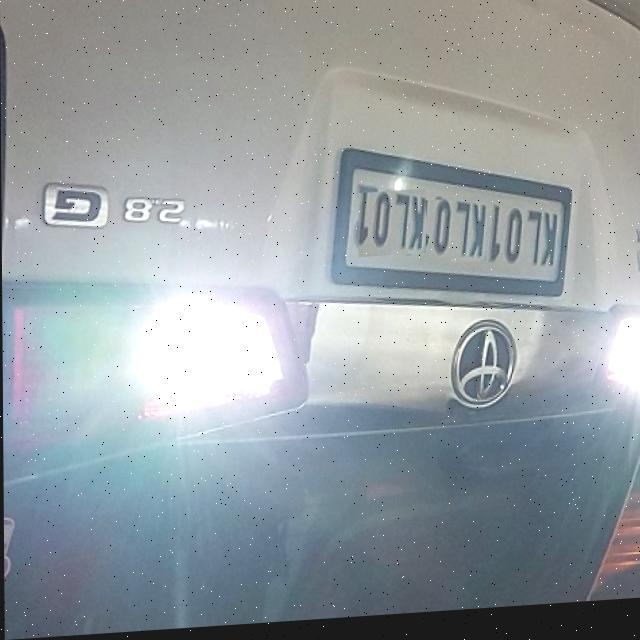plate: (328, 128, 573, 319)
